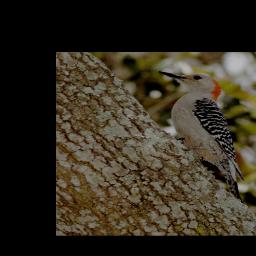Woodpecker: (156, 65, 252, 208)
